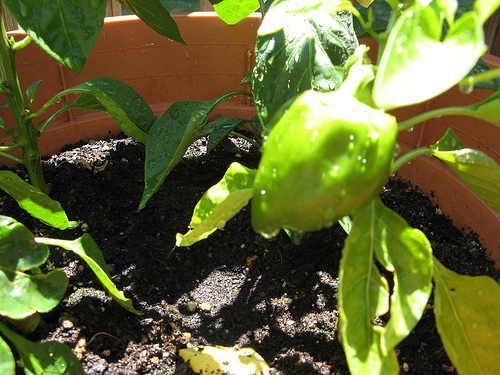capsicum: (251, 65, 396, 234)
